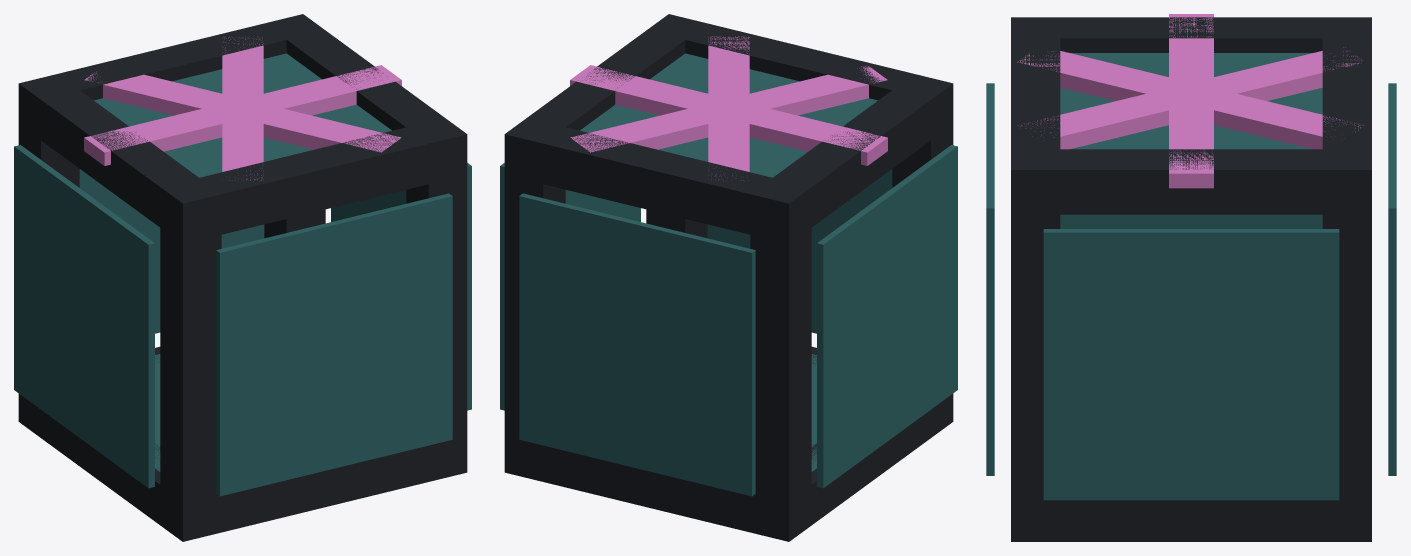
The model's file is tripmine_box.glb.
3 renders of one model, left to right at view 1: azimuth 30°, elevation 25°; view 2: azimuth 150°, elevation 25°; view 3: azimuth 270°, elevation 25°, orthographic. The views are drawn at different scales.
Visible parts, largest first — view 1: tripmine_box; view 2: tripmine_box; view 3: tripmine_box.
Part boxes in pixels (<box>): tripmine_box: <box>14,14,471,541</box>; tripmine_box: <box>500,14,957,541</box>; tripmine_box: <box>986,14,1396,541</box>.
Size of the model in its own units: 0.5 by 0.5 by 0.5.
